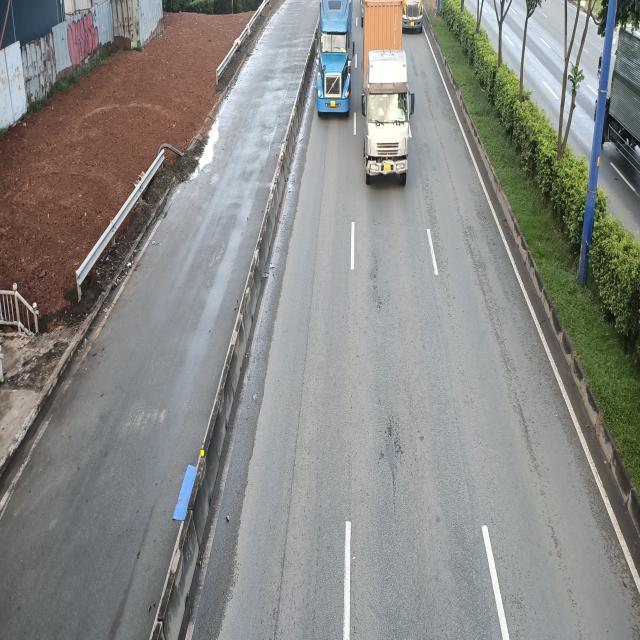container: (363, 0, 417, 183), (316, 0, 355, 116)
